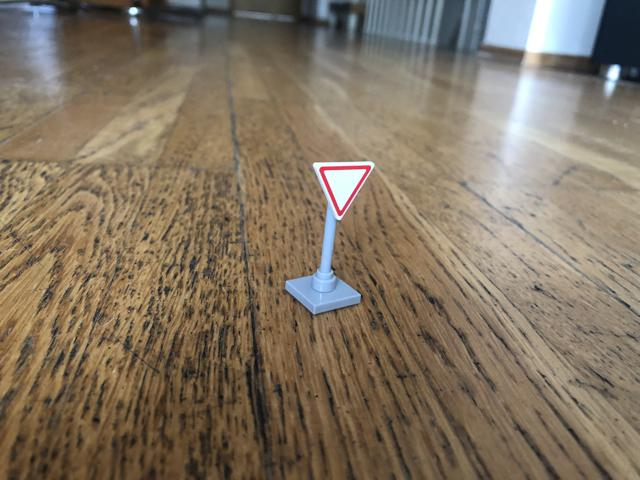vorfahrt gewähren: (308, 158, 378, 221)
